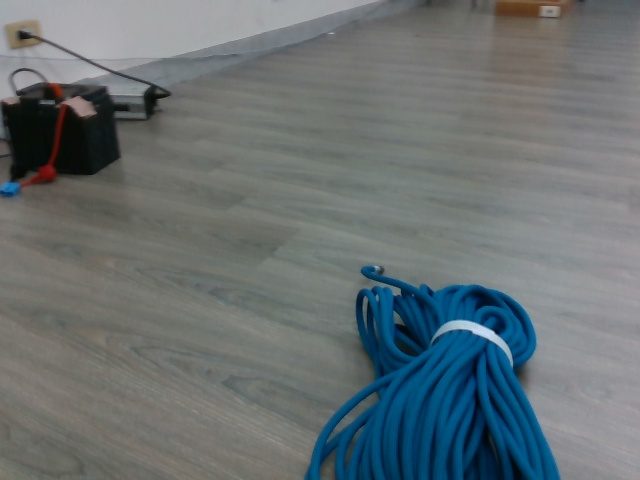rope: (318, 266, 558, 480)
